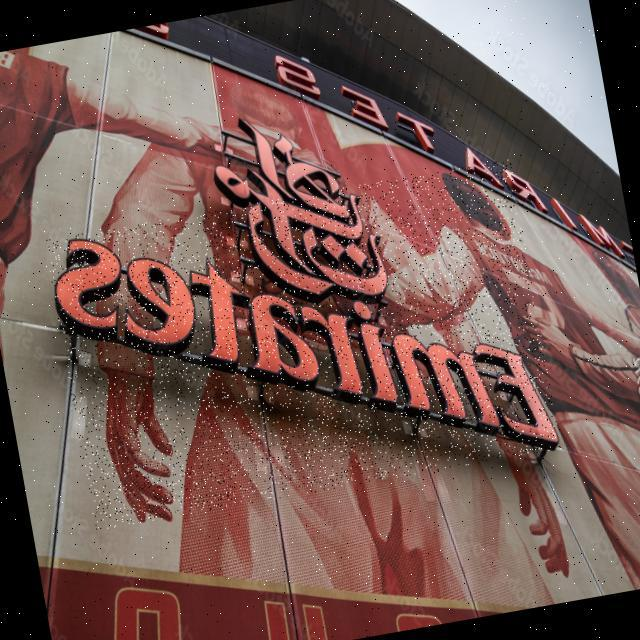Emirates: (44, 158, 561, 531)
